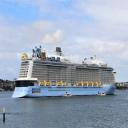cruises: (12, 45, 121, 102)
